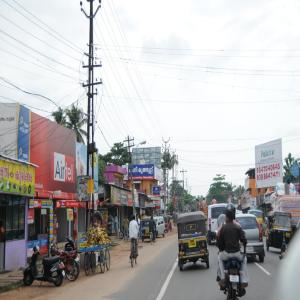Vehicle-registration-plate: (189, 239, 198, 249), (243, 246, 255, 253), (231, 275, 240, 283)
